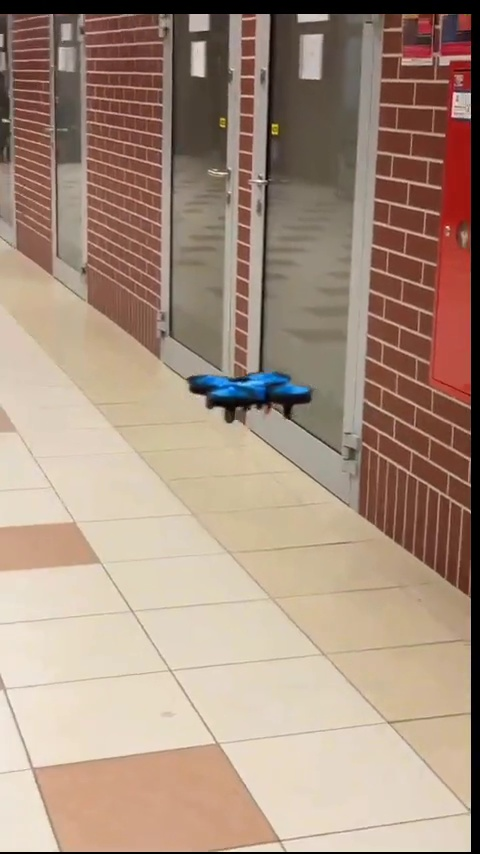drone: (190, 368, 314, 426)
